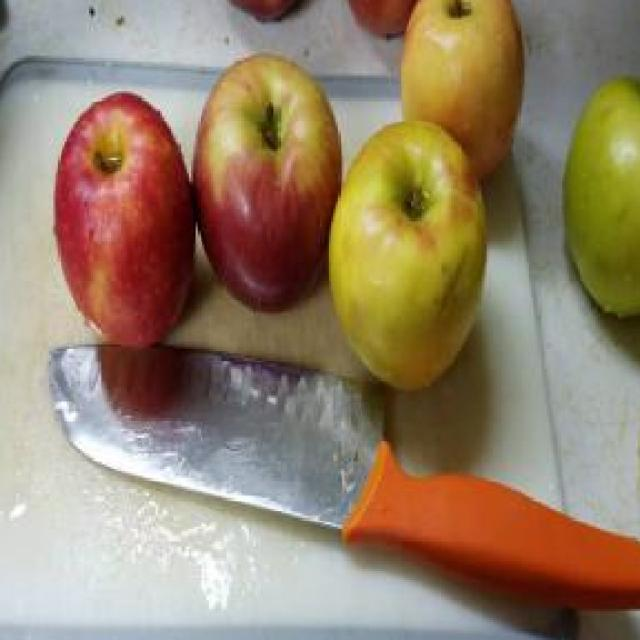knife: (46, 347, 640, 609)
